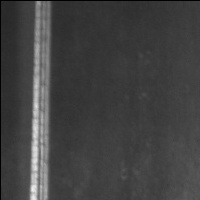scratches: (27, 1, 55, 200)
